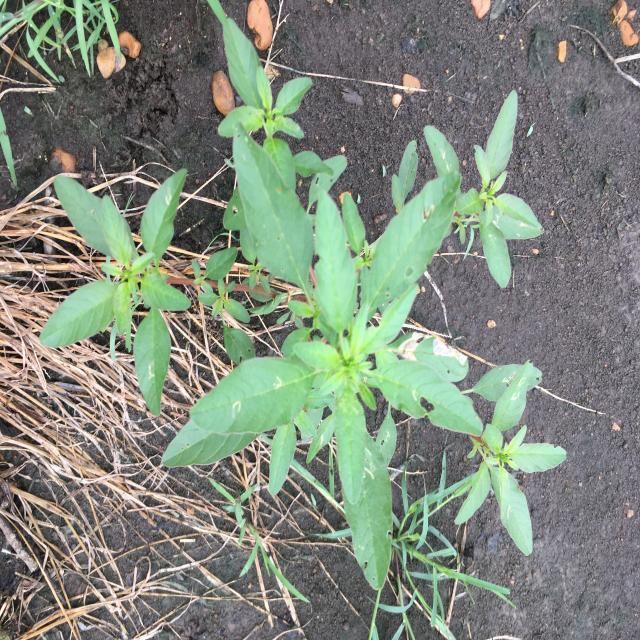Waterhemp: (40, 18, 567, 591)
